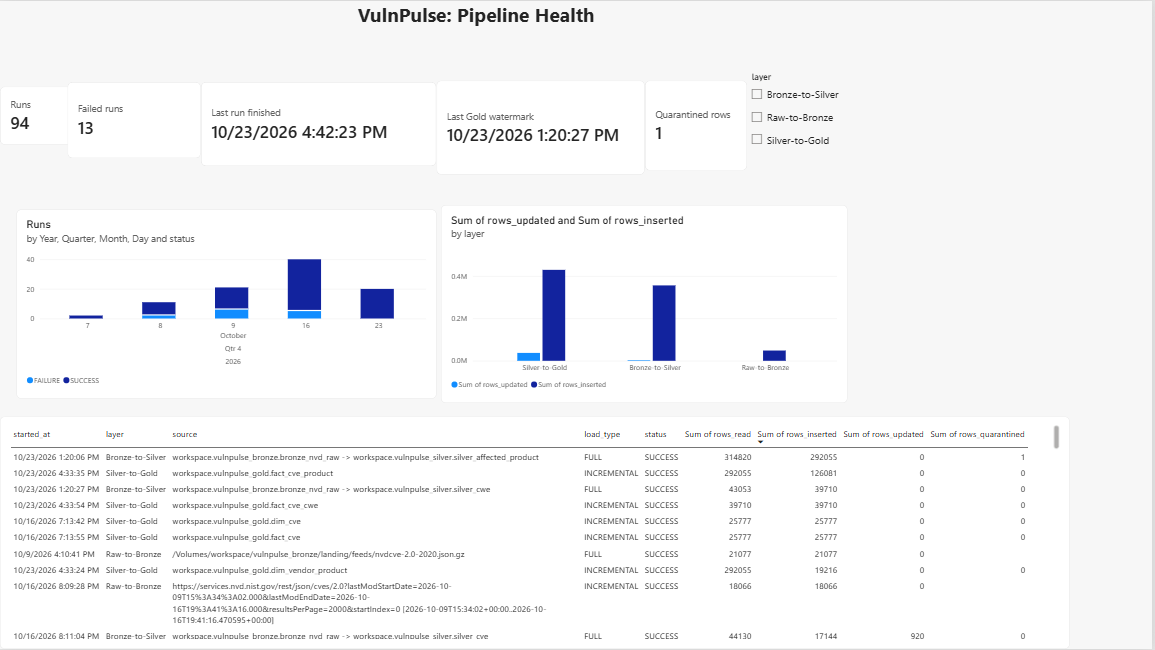

Layout of this report page (visuals, bound fields, positions):
{"tool":"powerbi","page":{"name":"Pipeline Health","canvas":[1920,1080],"ordinal":1},"visuals":[{"type":"textbox","box":[10,0,1567.5,167.5],"z":0},{"type":"cardVisual","fields":{"Data":["pipeline_execution_logs.Runs"]},"box":[0,142.5,127.5,97.5],"z":1},{"type":"cardVisual","fields":{"Data":["pipeline_execution_logs.Failed runs"]},"box":[112.5,135,222.5,127.5],"z":2},{"type":"cardVisual","fields":{"Data":["pipeline_execution_logs.Last run finished"]},"box":[335,135,392.5,140],"z":3},{"type":"cardVisual","fields":{"Data":["pipeline_execution_logs.Last Gold watermark"]},"box":[727.5,132.5,347.5,157.5],"z":4},{"type":"cardVisual","fields":{"Data":["pipeline_execution_logs.Quarantined rows"]},"box":[1075,132.5,170,150],"z":5},{"type":"columnChart","fields":{"Category":["pipeline_execution_logs.Run date.Variation.Date Hierarchy.Year","pipeline_execution_logs.Run date.Variation.Date Hierarchy.Quarter","pipeline_execution_logs.Run date.Variation.Date Hierarchy.Month","pipeline_execution_logs.Run date.Variation.Date Hierarchy.Day"],"Series":["pipeline_execution_logs.status"],"Y":["pipeline_execution_logs.Runs"]},"box":[27.5,347.5,700,315],"z":6},{"type":"clusteredColumnChart","fields":{"Category":["pipeline_execution_logs.layer"],"Y":["Sum(pipeline_execution_logs.rows_updated)","Sum(pipeline_execution_logs.rows_inserted)"]},"box":[735,340,677.5,330],"z":7},{"type":"tableEx","fields":{"Values":["pipeline_execution_logs.started_at","pipeline_execution_logs.layer","pipeline_execution_logs.source","pipeline_execution_logs.load_type","pipeline_execution_logs.status","Sum(pipeline_execution_logs.rows_read)","Sum(pipeline_execution_logs.rows_inserted)","Sum(pipeline_execution_logs.rows_updated)","Sum(pipeline_execution_logs.rows_quarantined)"]},"box":[0,692.5,1782.5,387.5],"z":8},{"type":"slicer","fields":{"Values":["pipeline_execution_logs.layer"]},"box":[1245,117.5,348,188],"z":9},{"type":"clusteredBarChart","fields":{"Category":["silver_quarantine.reason"],"Y":["pipeline_execution_logs.Quarantined rows"]},"box":[1420,352.5,292.5,310],"z":10}]}

Visuals, with their boxes in screenshot pixels (x1, y1, x2, y2), scaled from the page's 1920x1080 canvas onto the 1155x650 screenshot:
textbox: 6,0,949,101
cardVisual - pipeline_execution_logs.Runs: 0,86,77,144
cardVisual - pipeline_execution_logs.Failed runs: 68,81,202,158
cardVisual - pipeline_execution_logs.Last run finished: 202,81,438,166
cardVisual - pipeline_execution_logs.Last Gold watermark: 438,80,647,175
cardVisual - pipeline_execution_logs.Quarantined rows: 647,80,749,170
columnChart - pipeline_execution_logs.Run date.Variation.Date Hierarchy.Year x pipeline_execution_logs.Run date.Variation.Date Hierarchy.Quarter: 17,209,438,399
clusteredColumnChart - pipeline_execution_logs.layer x Sum(pipeline_execution_logs.rows_updated): 442,205,850,403
tableEx - pipeline_execution_logs.started_at x pipeline_execution_logs.layer: 0,417,1072,649
slicer - pipeline_execution_logs.layer: 749,71,958,184
clusteredBarChart - silver_quarantine.reason x pipeline_execution_logs.Quarantined rows: 854,212,1030,399
